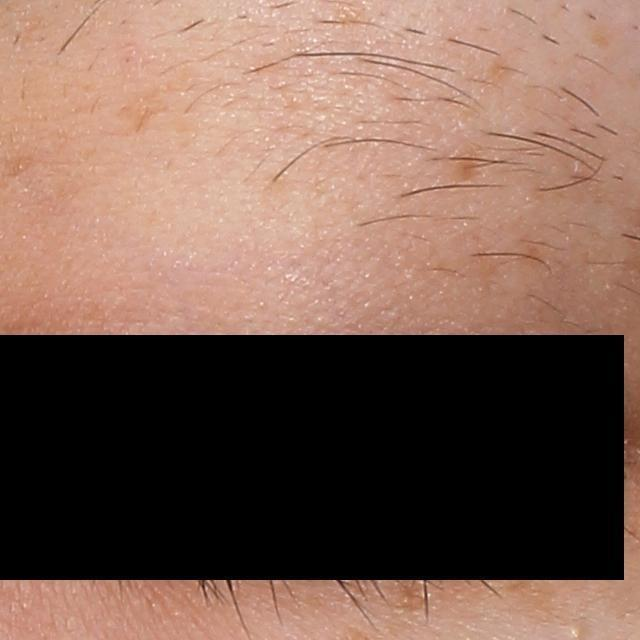melasma: (449, 149, 483, 185)
